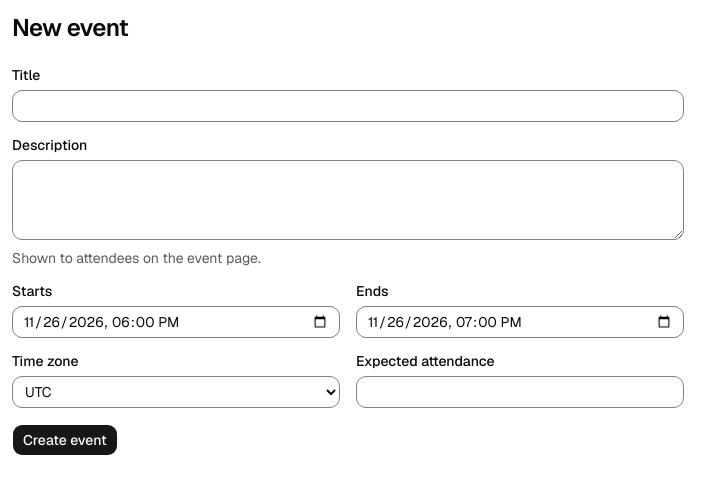
Test: NewEventPage › shows the API's field errors next to the form's fields
Type "Product launch" into the field labelled "Title". click: (348, 106)
box: [12, 90, 684, 122]
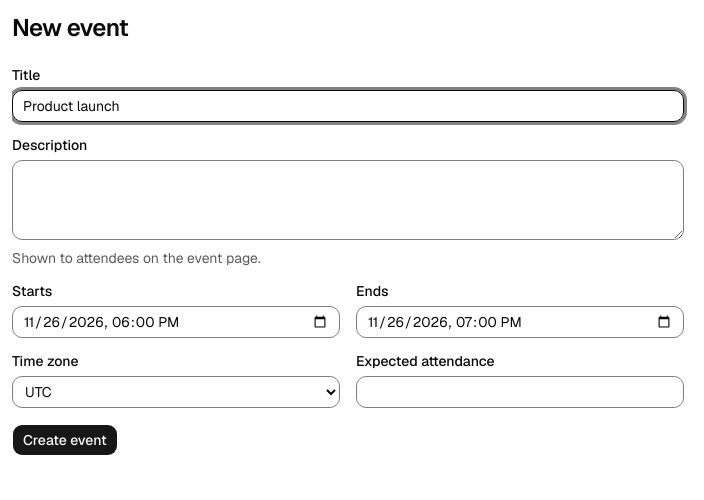
Select "Europe/London" in the dropdown labelled "Time zone". click: (176, 392)
box: [12, 376, 340, 408]
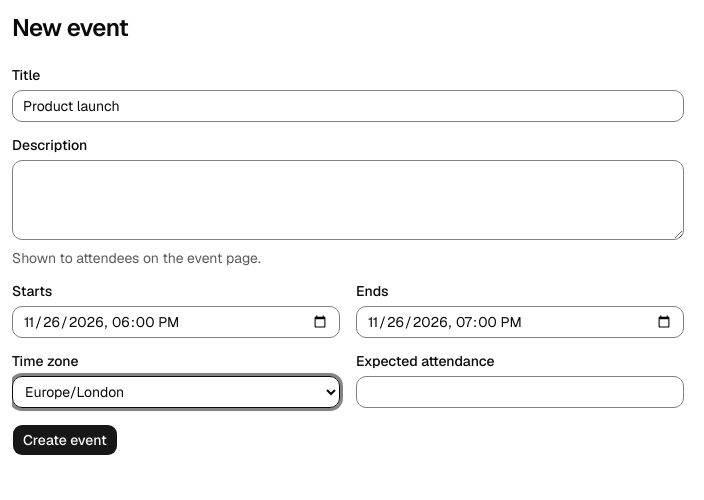
Replace the text in the field labelled "Starts" with "2026-07-01T18:00". click: (176, 322)
box: [12, 306, 340, 338]
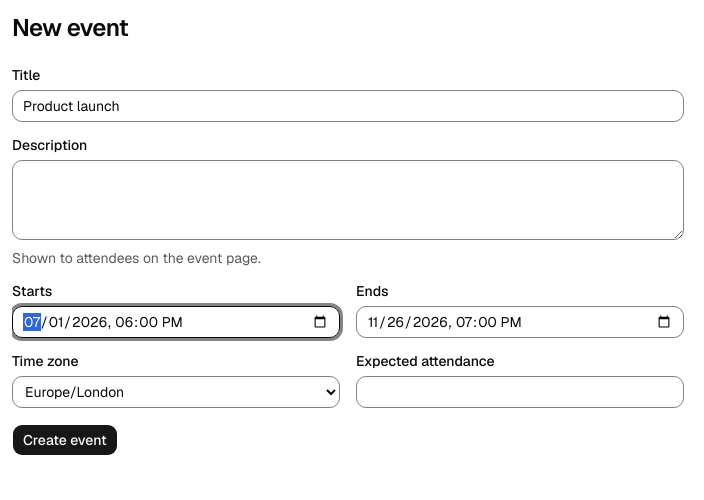
Replace the text in the field labelled "Ends" with "2026-07-01T19:30". click: (520, 322)
box: [356, 306, 684, 338]
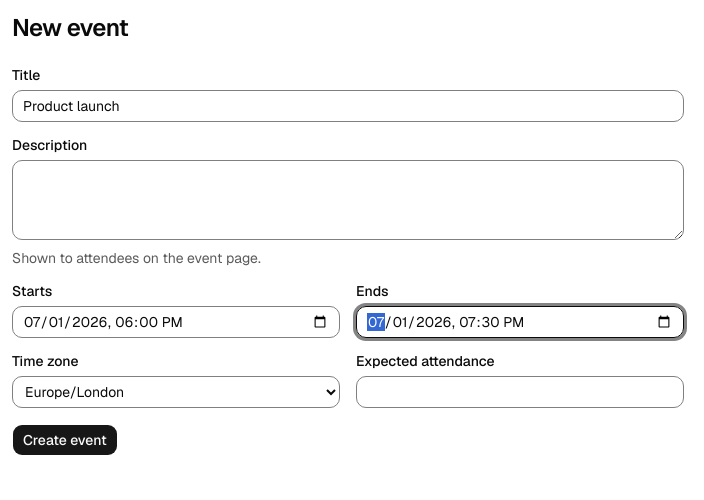
Click the button "Create event". click: (65, 440)
box: [12, 424, 118, 456]
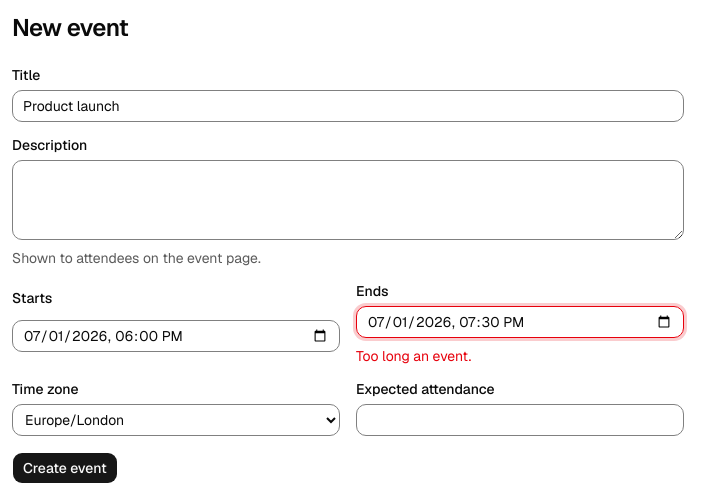
Expected: the text "Too long an event." is shown, [356, 347, 471, 365]
